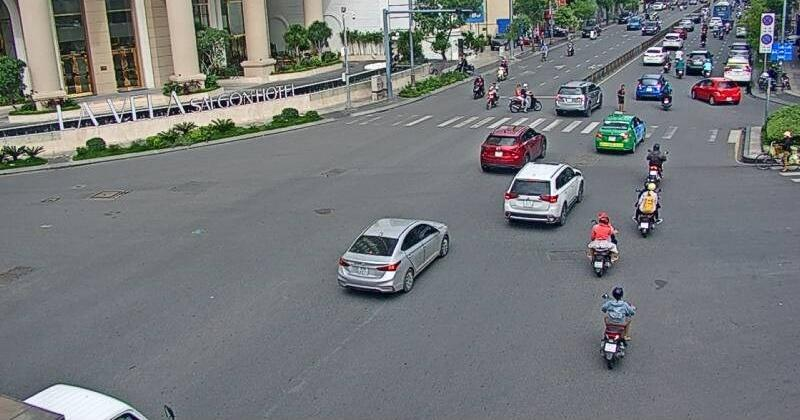xe hoi: (339, 217, 450, 293), (503, 161, 584, 227), (479, 124, 546, 169), (594, 114, 646, 153), (554, 79, 603, 116)
xe may: (599, 286, 635, 370), (587, 212, 617, 278), (631, 182, 662, 239), (508, 83, 542, 113), (645, 143, 669, 180)
